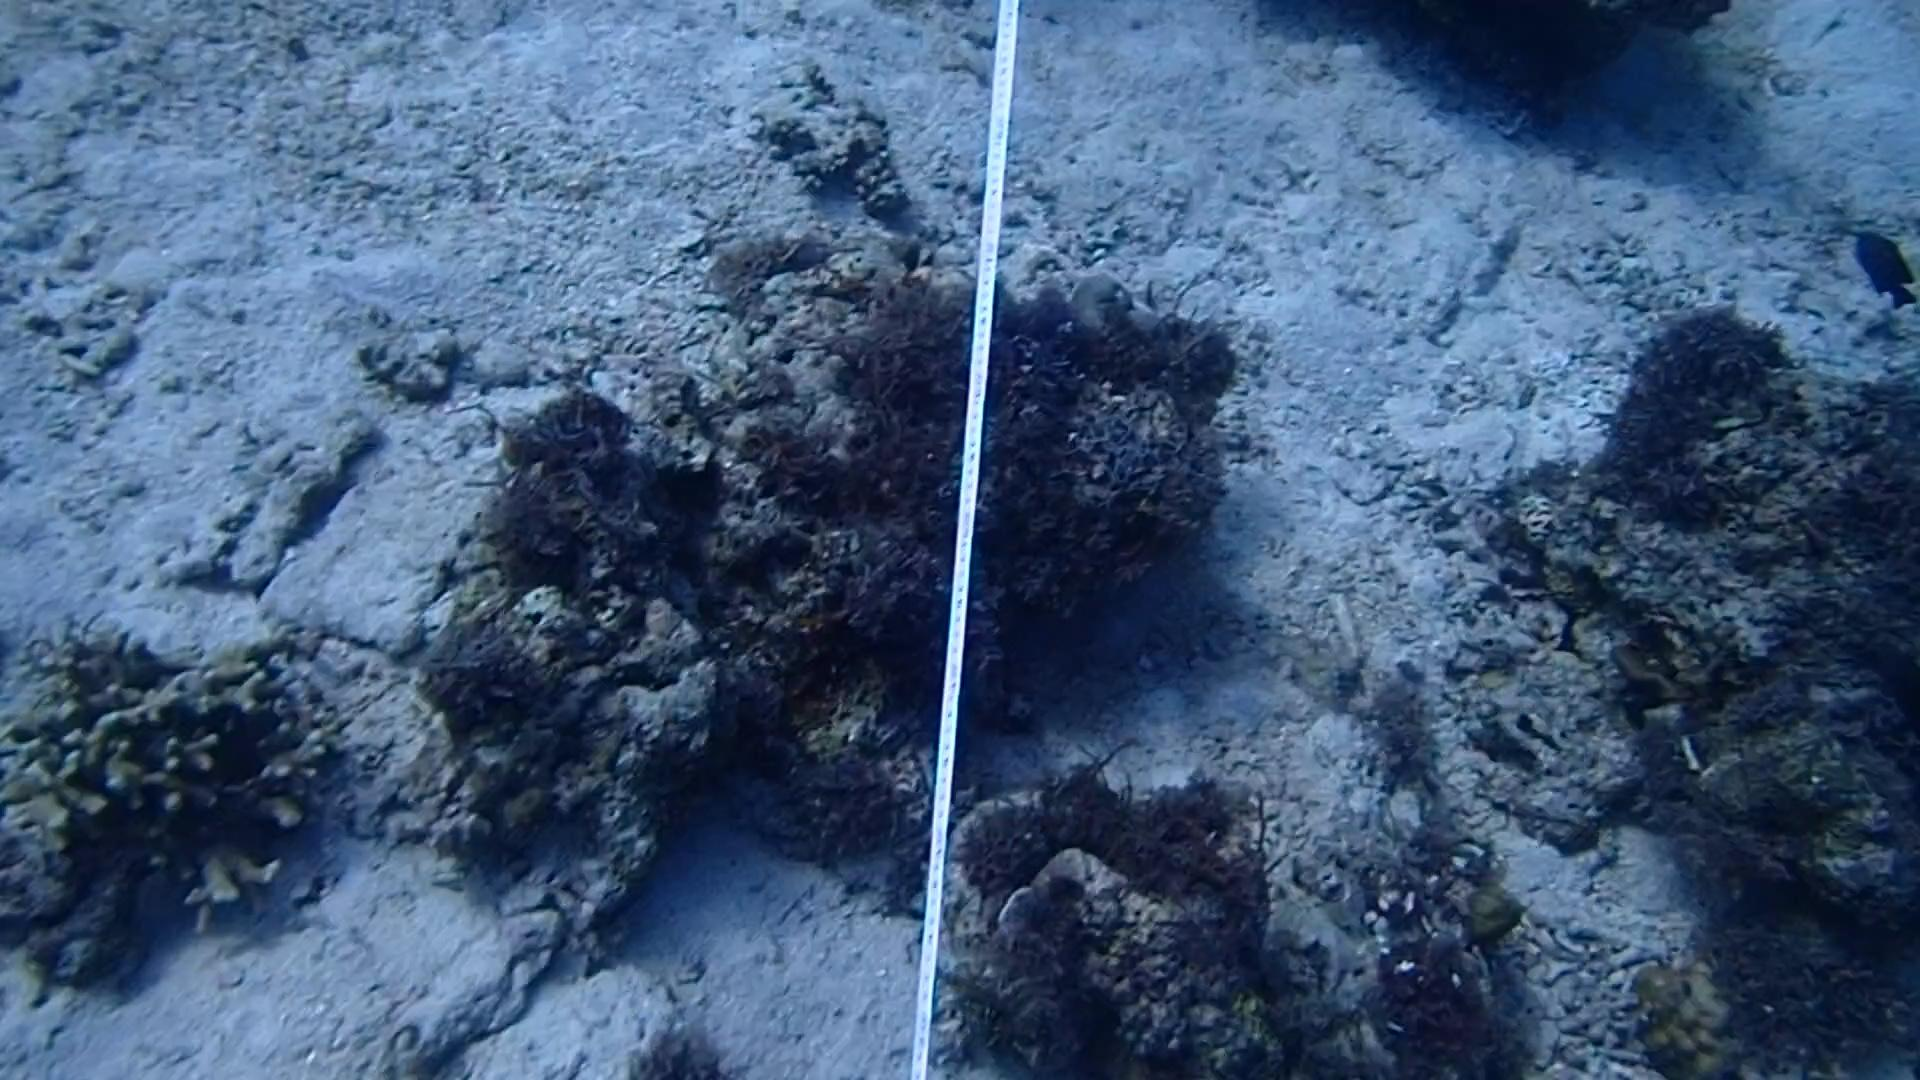Dark Fish: (1844, 224, 1920, 311)
